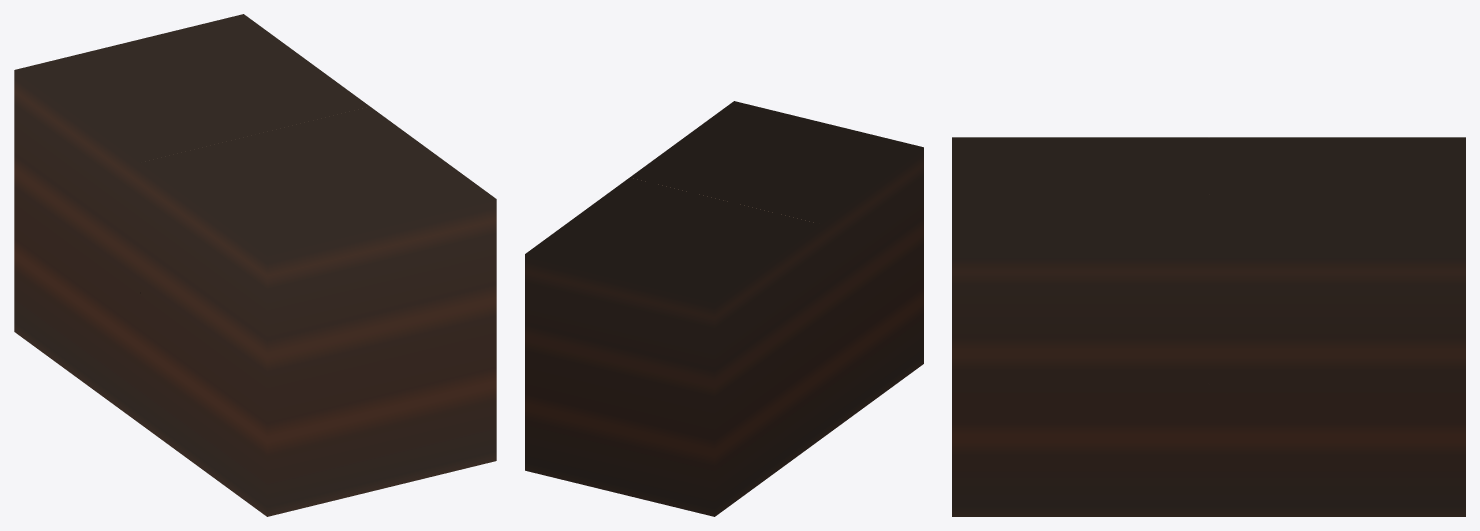
Rendered from trap_t11_security_camera.glb.
3 renders of one model, left to right at view 1: azimuth 30°, elevation 25°; view 2: azimuth 150°, elevation 25°; view 3: azimuth 270°, elevation 25°, orthographic. The views are drawn at different scales.
Parts seen in each view (by area): view 1: trap_t11_security_camera; view 2: trap_t11_security_camera; view 3: trap_t11_security_camera.
Boxes of the visible parts, x1=… form: trap_t11_security_camera: x1=14, y1=14, x2=496, y2=516; trap_t11_security_camera: x1=525, y1=101, x2=923, y2=516; trap_t11_security_camera: x1=952, y1=137, x2=1465, y2=516.
Size of the model in its own units: 0.22 by 0.364 by 0.42.
Materials: 1 (1 with a texture image).
